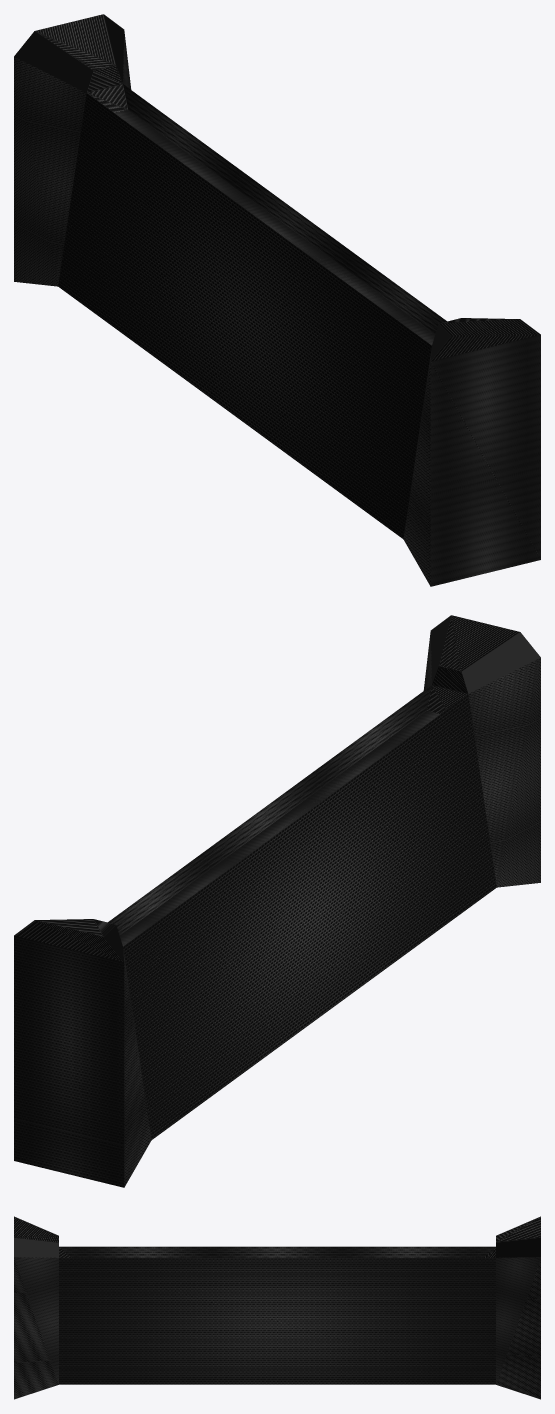
Rendered from Wall.fbx.
3 renders of one model, top to bottom at view 1: azimuth 30°, elevation 25°; view 2: azimuth 150°, elevation 25°; view 3: azimuth 270°, elevation 25°, orthographic. The views are drawn at different scales.
Parts seen in each view (by area): view 1: pCube11; view 2: pCube11; view 3: pCube11.
Part boxes in pixels (x1,y1,x2,y2): pCube11: (14, 14, 540, 586); pCube11: (14, 615, 540, 1187); pCube11: (14, 1216, 540, 1399).
Bounding box in the file's own units: 2.88 × 6.12 × 18.82.
1 material, 1 textured.
